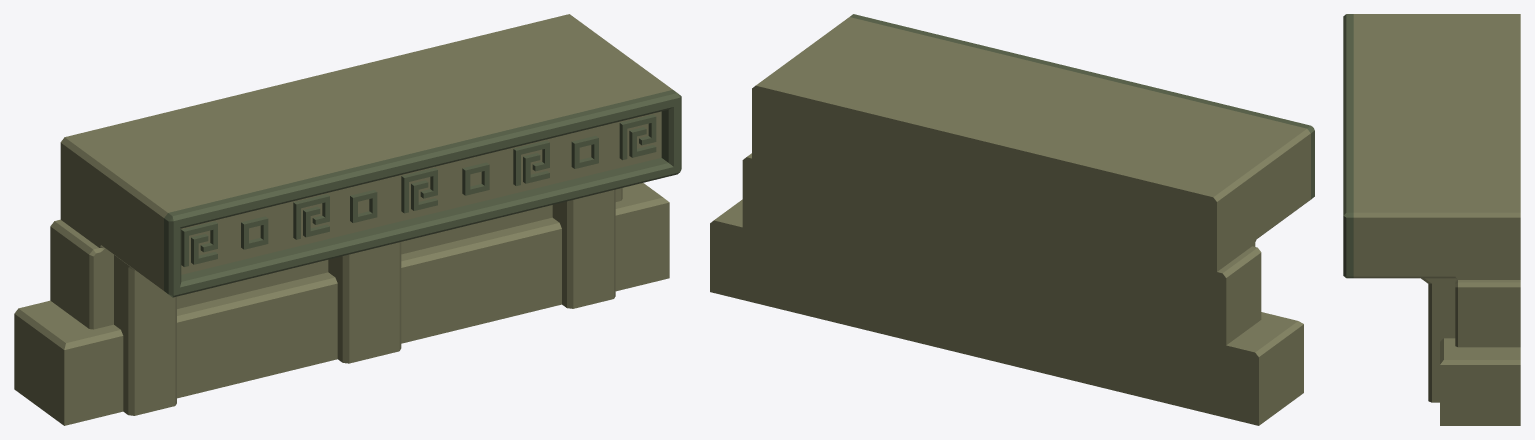
File: temple_back.fbx
3 renders of one model, left to right at view 1: azimuth 30°, elevation 25°; view 2: azimuth 150°, elevation 25°; view 3: azimuth 270°, elevation 25°, orthographic. The views are drawn at different scales.
Parts seen in each view (by area): view 1: temple_back, temple_back_decorsmall; view 2: temple_back; view 3: temple_back.
Boxes of the visible parts, bbox=[...] form: temple_back: bbox=[14, 14, 681, 425]; temple_back_decorsmall: bbox=[181, 114, 656, 266]; temple_back: bbox=[710, 14, 1314, 425]; temple_back: bbox=[1343, 14, 1520, 425].
Size of the model in its own units: 14.75 by 5.59 by 4.64.
